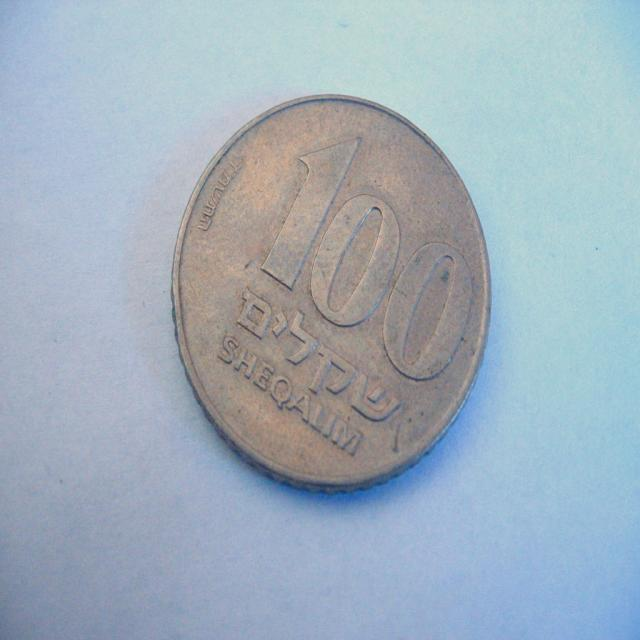Coin: (171, 90, 494, 497)
